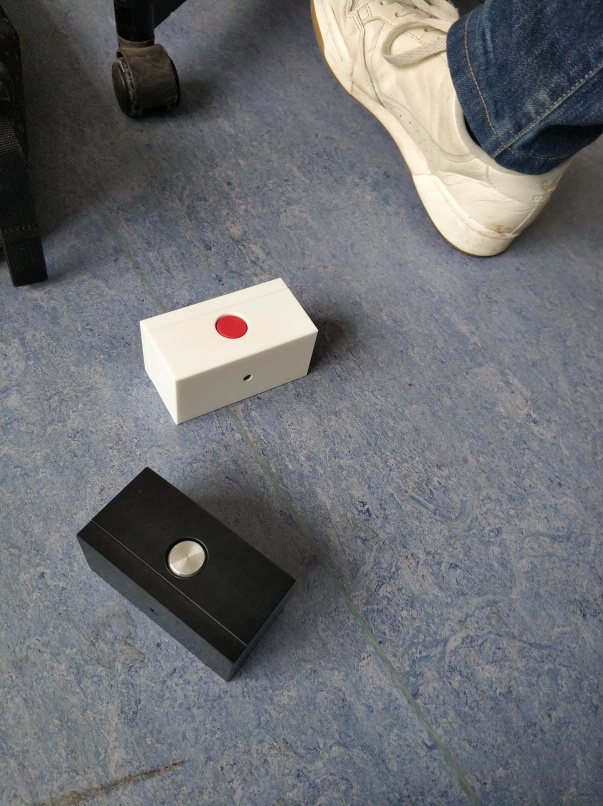black+black+silver: (72, 465, 298, 686)
white+white+red: (133, 274, 320, 429)
